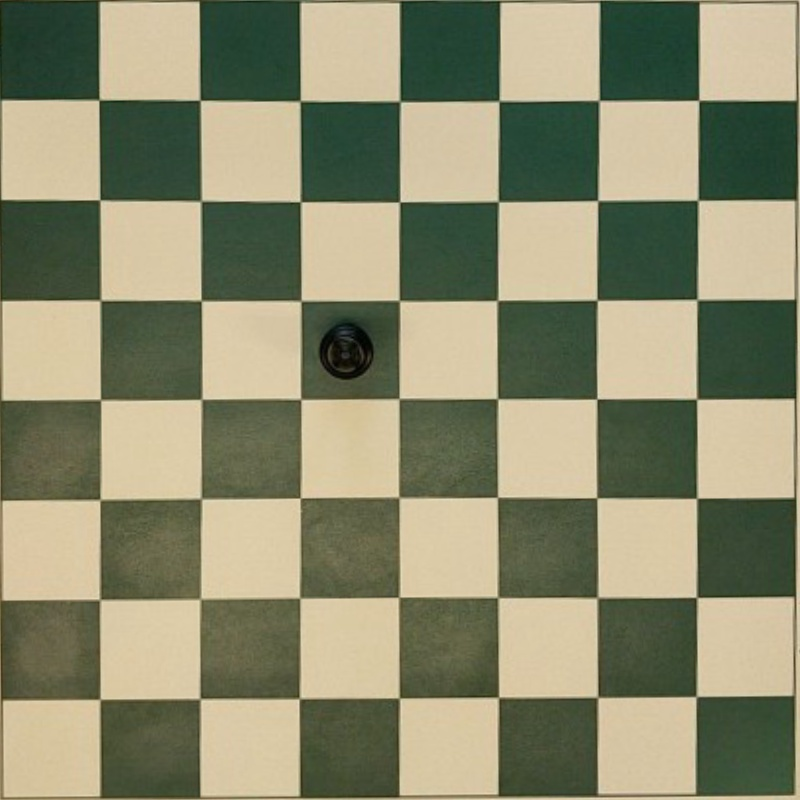black-bishop: (319, 321, 374, 379)
